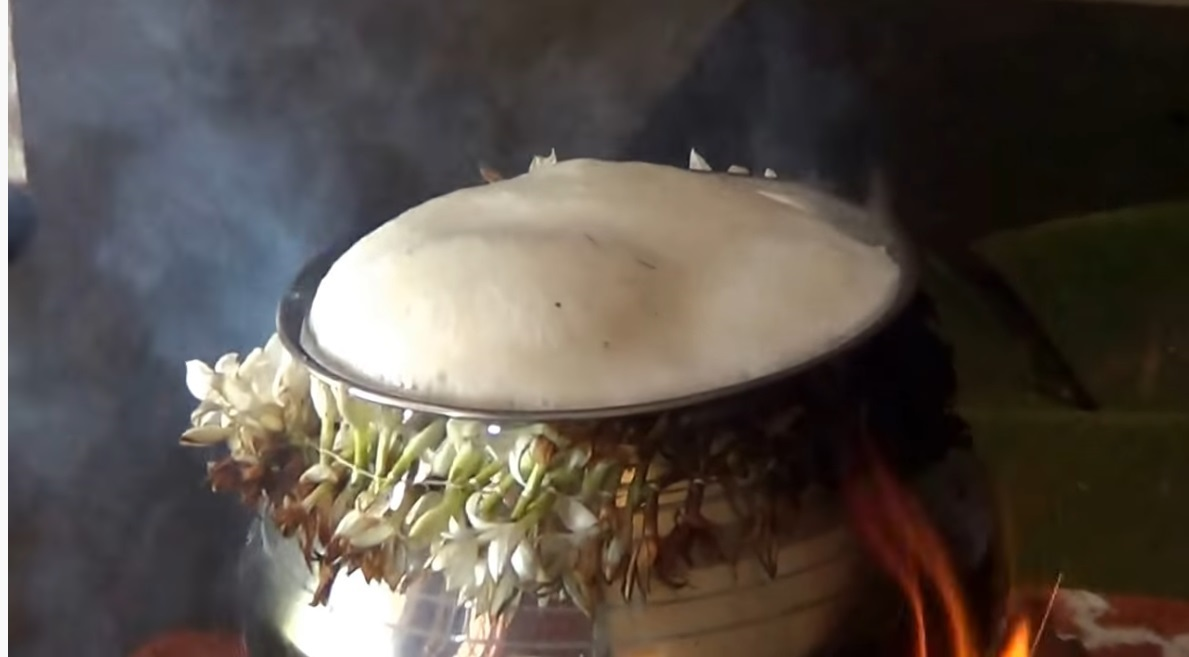Boiled: (242, 135, 949, 459)
